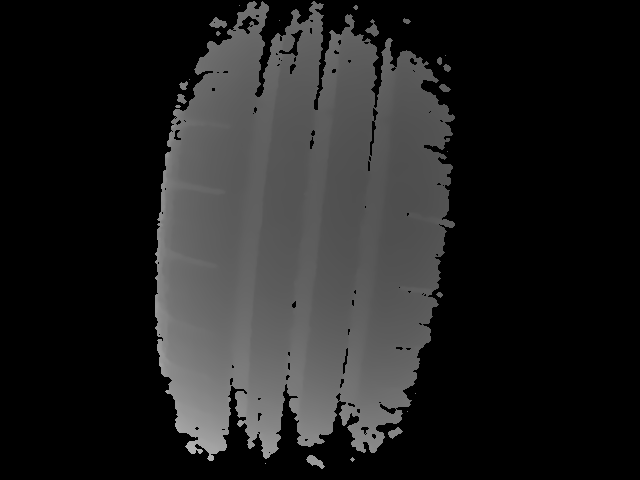high: (326, 207, 330, 222)
low: (312, 207, 316, 222)
